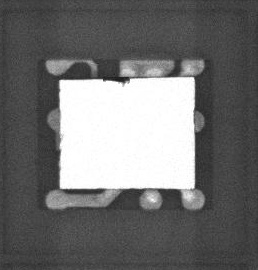DIE_BROKEN: (100, 74, 131, 86)
